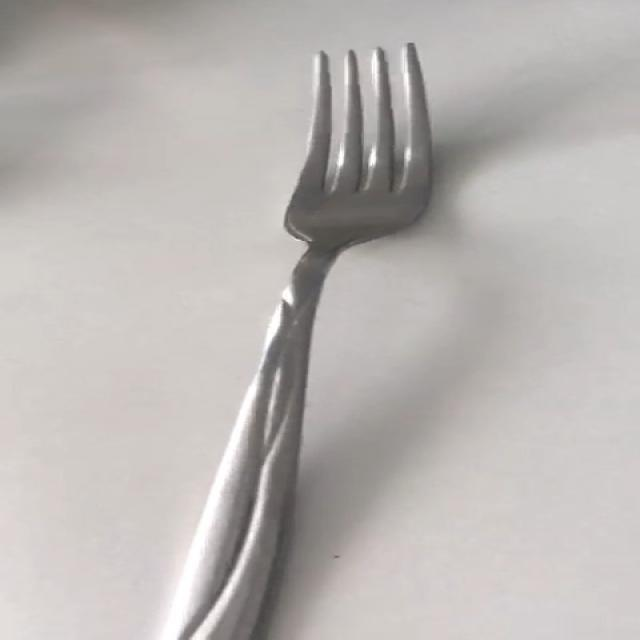spoon: (161, 44, 431, 640)
